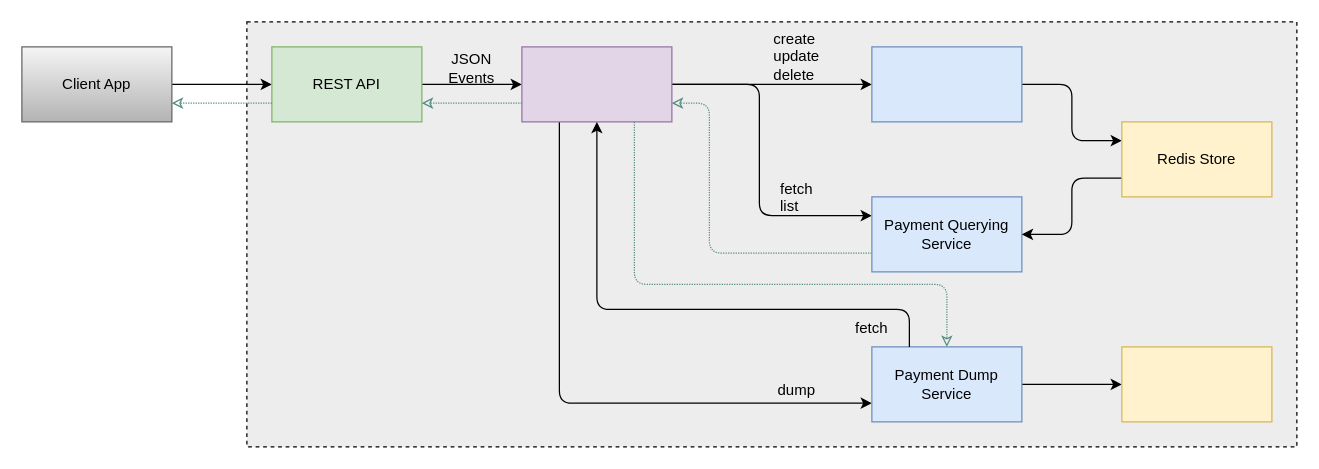
Some shapes in this 1319 by 469 pixel diagram are drawn without their labels. Here are the shapes that lost their labels. From the top down, the centre of each, then its label:
At pixel 596 84: "NATS Server".
At pixel 946 84: "Payment Processing Service".
At pixel 1196 384: "DB (redis)".
